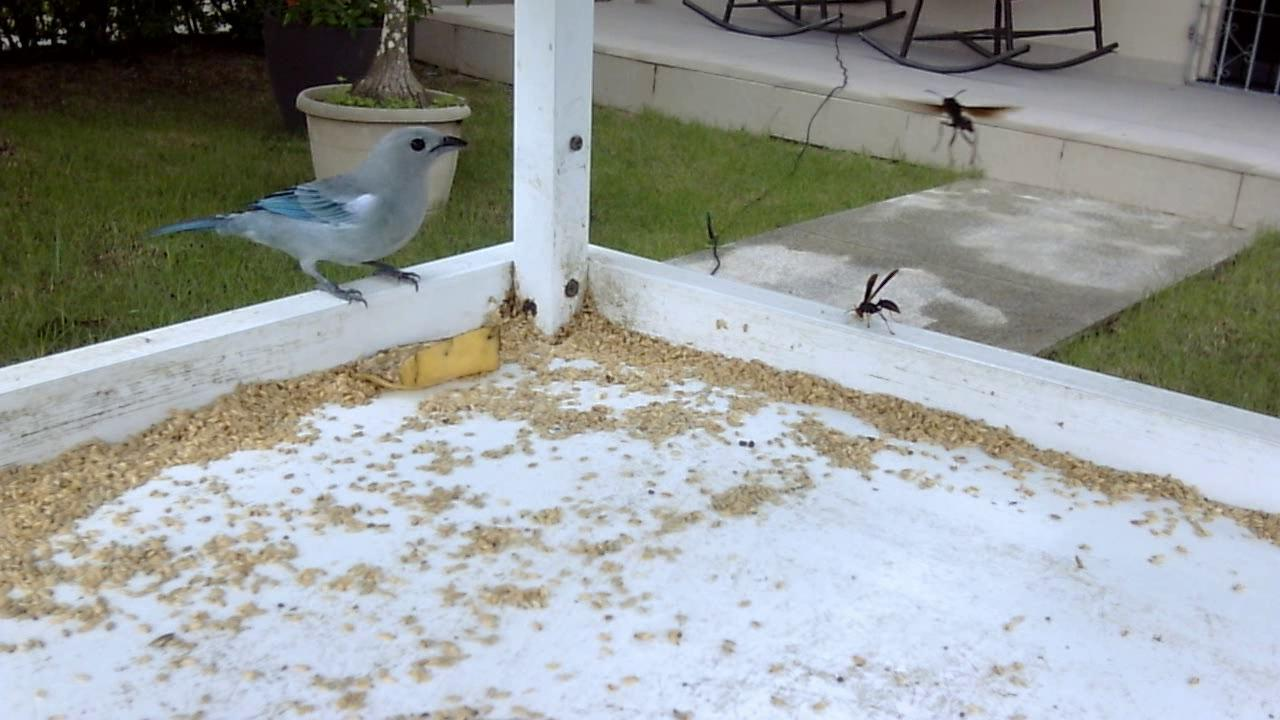sanhaco_da_amazonia: (148, 121, 468, 318)
